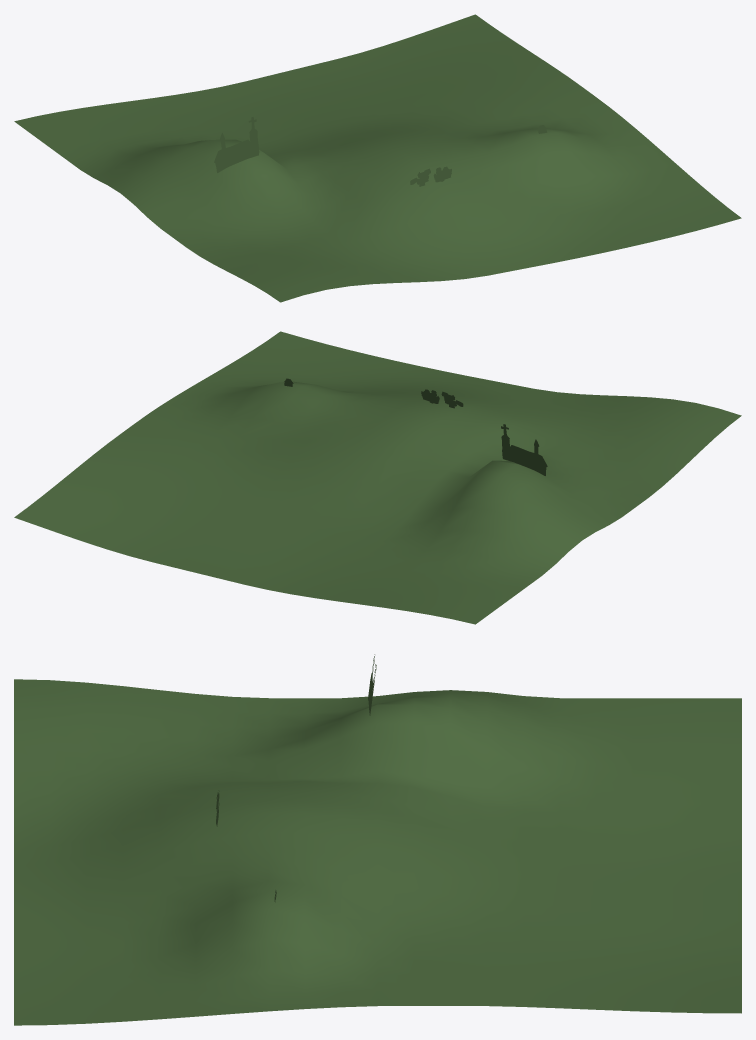
File: splash.glb
3 renders of one model, top to bottom at view 1: azimuth 30°, elevation 25°; view 2: azimuth 150°, elevation 25°; view 3: azimuth 270°, elevation 25°, orthographic. The views are drawn at different scales.
Visible parts, largest first — view 1: ground, buildings; view 2: ground, buildings_shadow; view 3: ground.
Boxes of the visible parts, box(x1,y1,x2,y2) form: ground: box(14, 14, 741, 302); buildings: box(214, 117, 547, 186); ground: box(14, 331, 741, 624); buildings_shadow: box(284, 379, 547, 475); ground: box(14, 679, 741, 1025).
Bounding box in the file's own units: 20 × 3.86 × 20.
